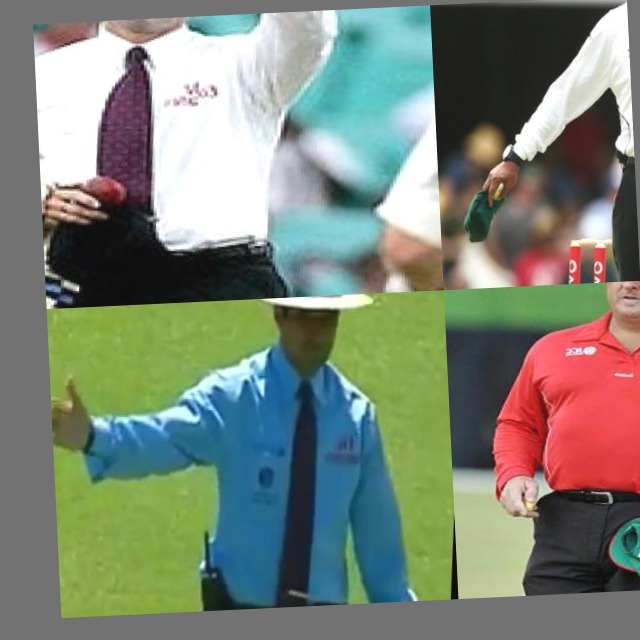No_Ball: (47, 290, 458, 618), (448, 281, 640, 599), (434, 0, 640, 290)
Out: (33, 9, 367, 309)
